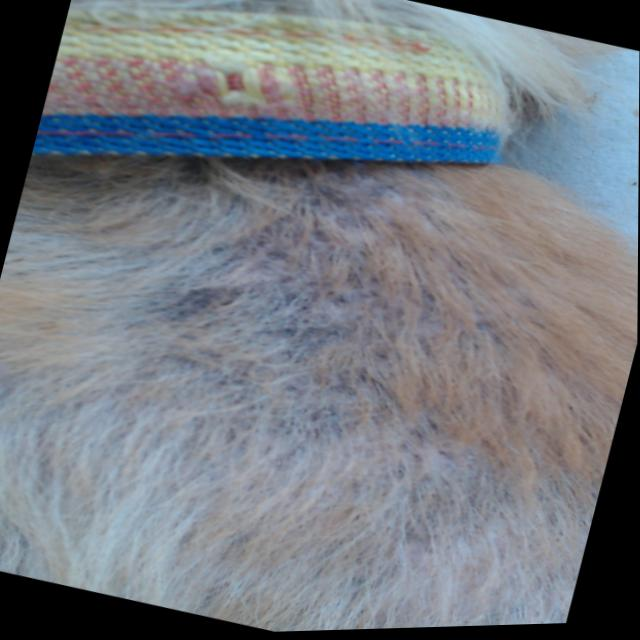demodicosis: (152, 189, 447, 410)
